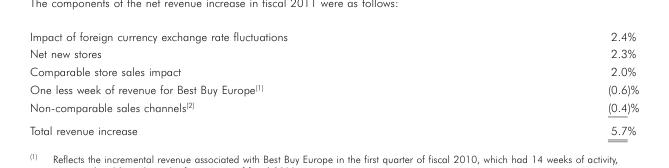table: (28, 28, 638, 136)
table column: (28, 28, 446, 136), (446, 28, 638, 136)
table row: (28, 97, 638, 118), (28, 44, 638, 62), (28, 62, 638, 80), (28, 118, 638, 136), (28, 80, 638, 97), (28, 28, 638, 44)
